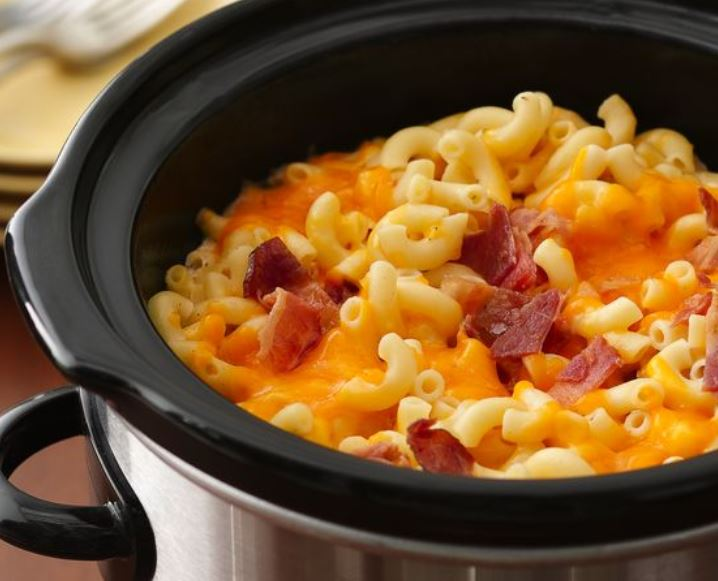bacon: (444, 210, 647, 397), (229, 230, 432, 387)
